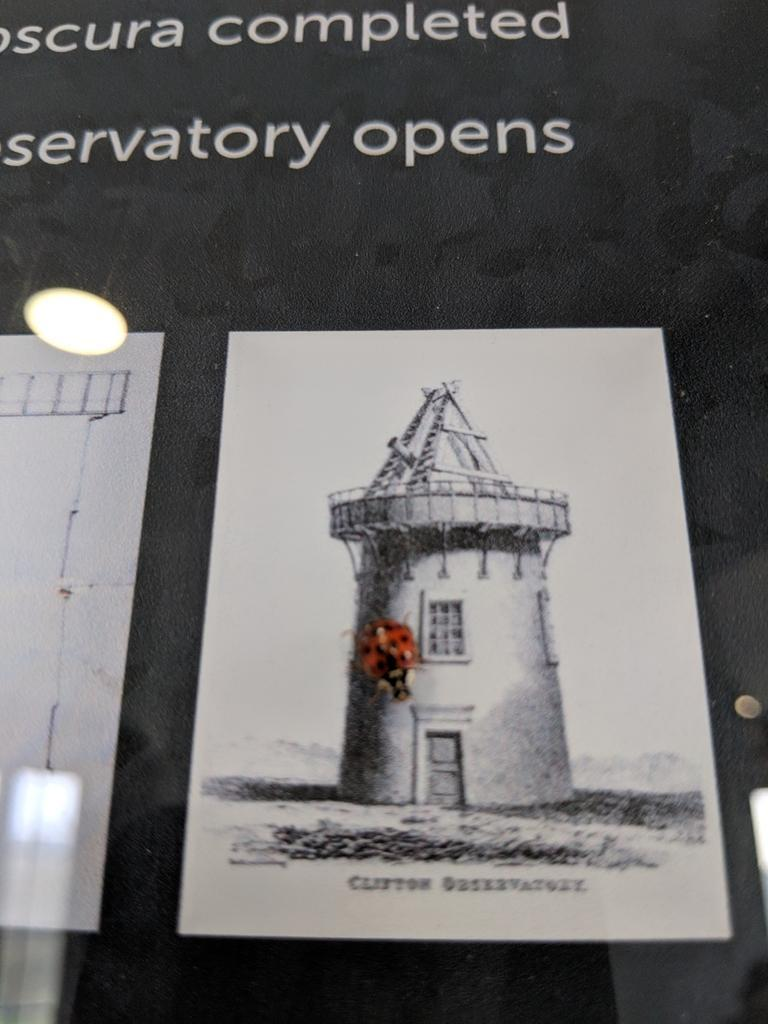ladybug: (342, 611, 428, 704)
